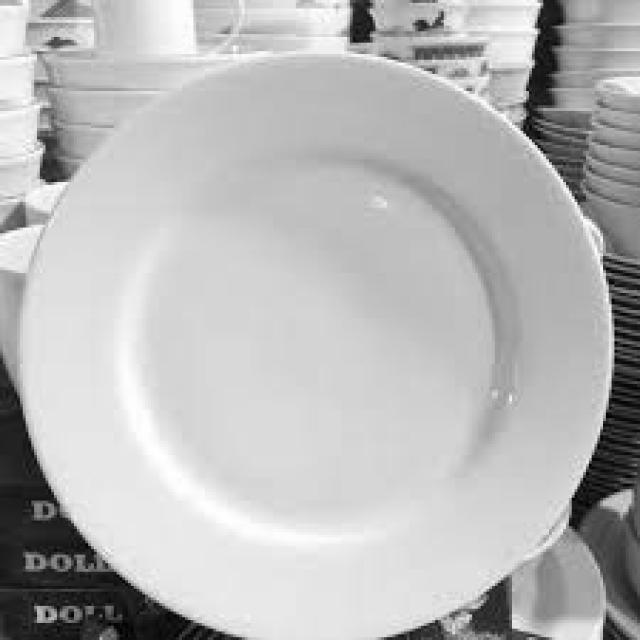dish: (8, 6, 634, 640)
